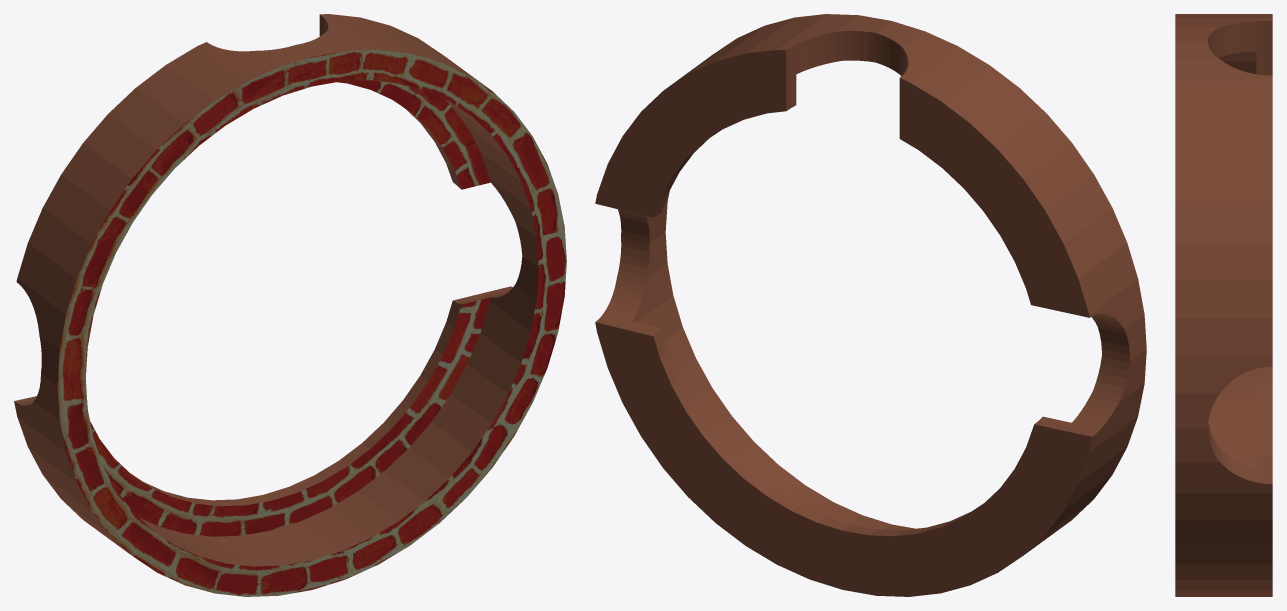
File: pool_077.obj
The picture shows the model from 3 angles, left to right: view 1: azimuth 30°, elevation 25°; view 2: azimuth 150°, elevation 25°; view 3: azimuth 270°, elevation 25°; orthographic projection.
Bounding box in the file's own units: 18 × 18 × 3.
Materials: 1 (1 with a texture image).
